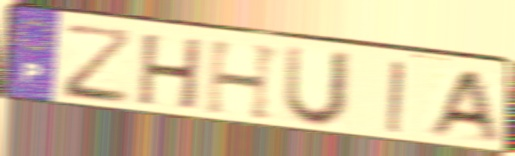A: (421, 68, 503, 142)
H: (202, 38, 285, 124), (134, 32, 207, 114)
I: (384, 58, 406, 137)
U: (279, 43, 356, 131)
Z: (61, 22, 135, 108)
